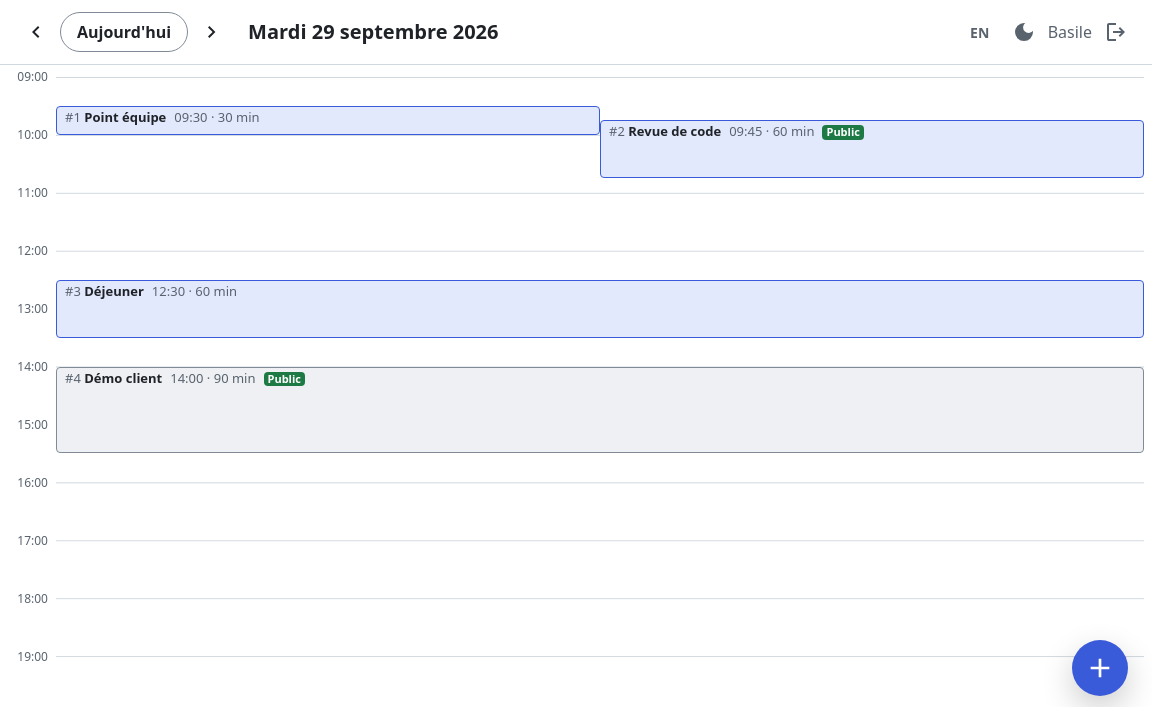
Test: create › "Annuler" closes the dialog without creating anything
Expected: the heading "mardi 29 septembre 2026" is shown, x1=248 y1=20 x2=498 y2=44
Click the button named "Nouvel événement" at x=1100, y=668, box x1=1072 y1=640 x2=1128 y2=696
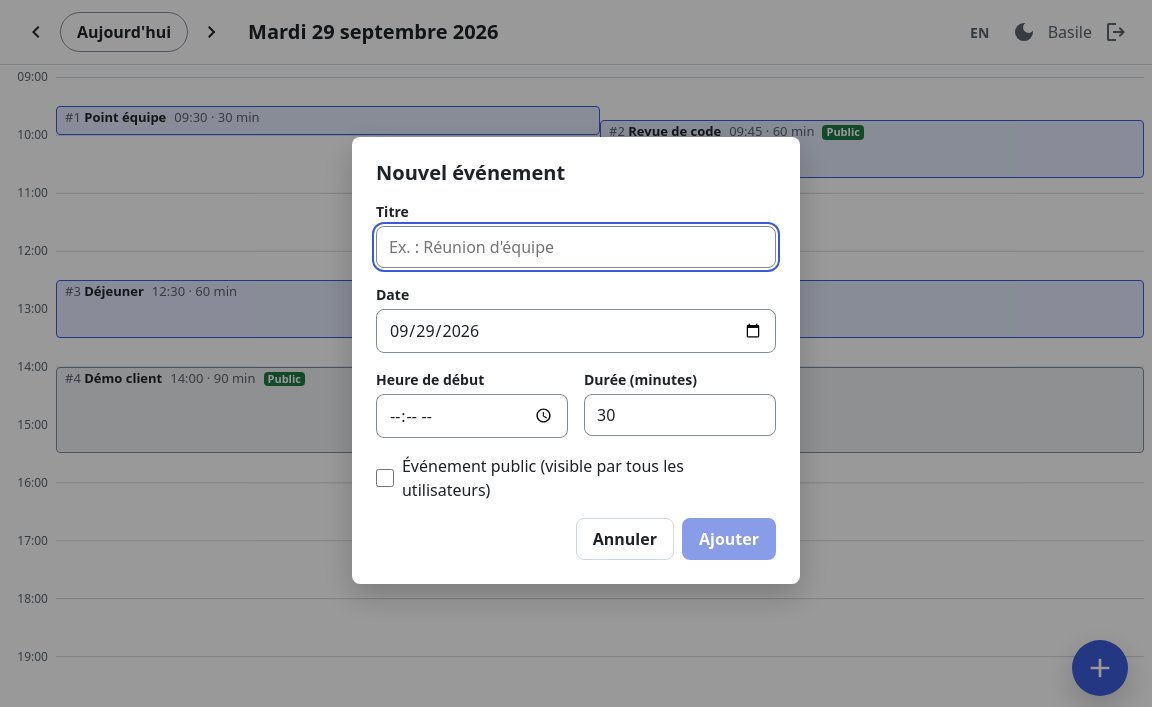
Click the button "Annuler" at x=625, y=538, box x1=576 y1=518 x2=674 y2=560
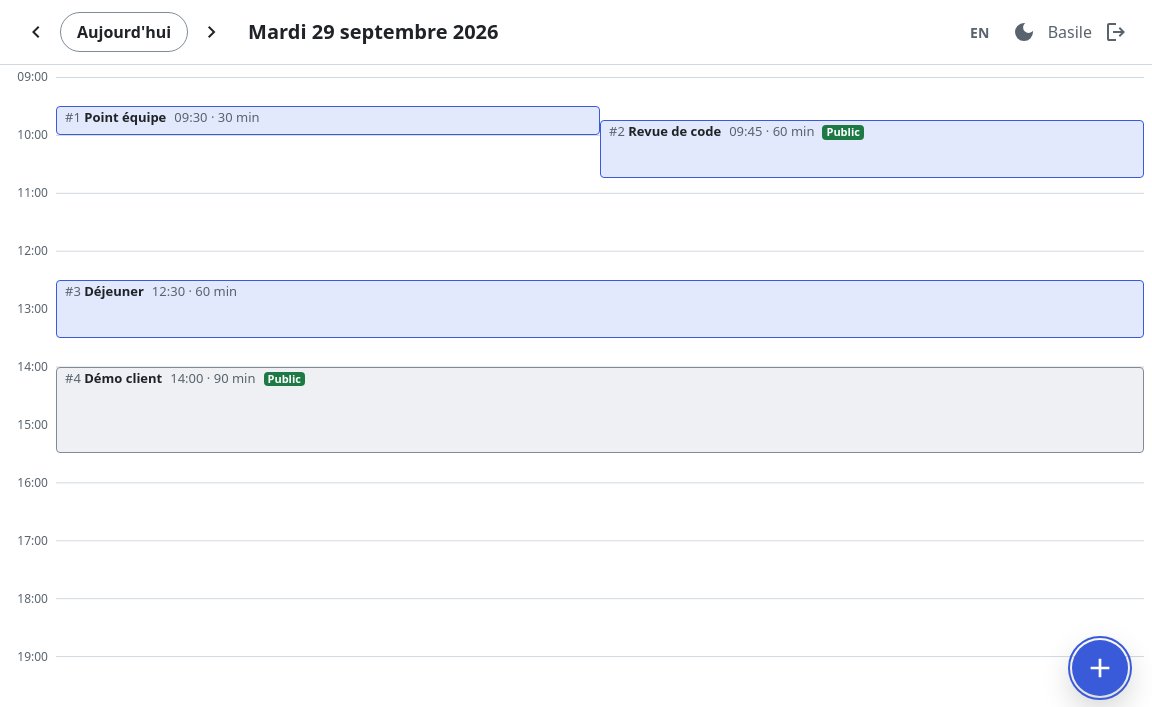
Expected: the dialog is gone
